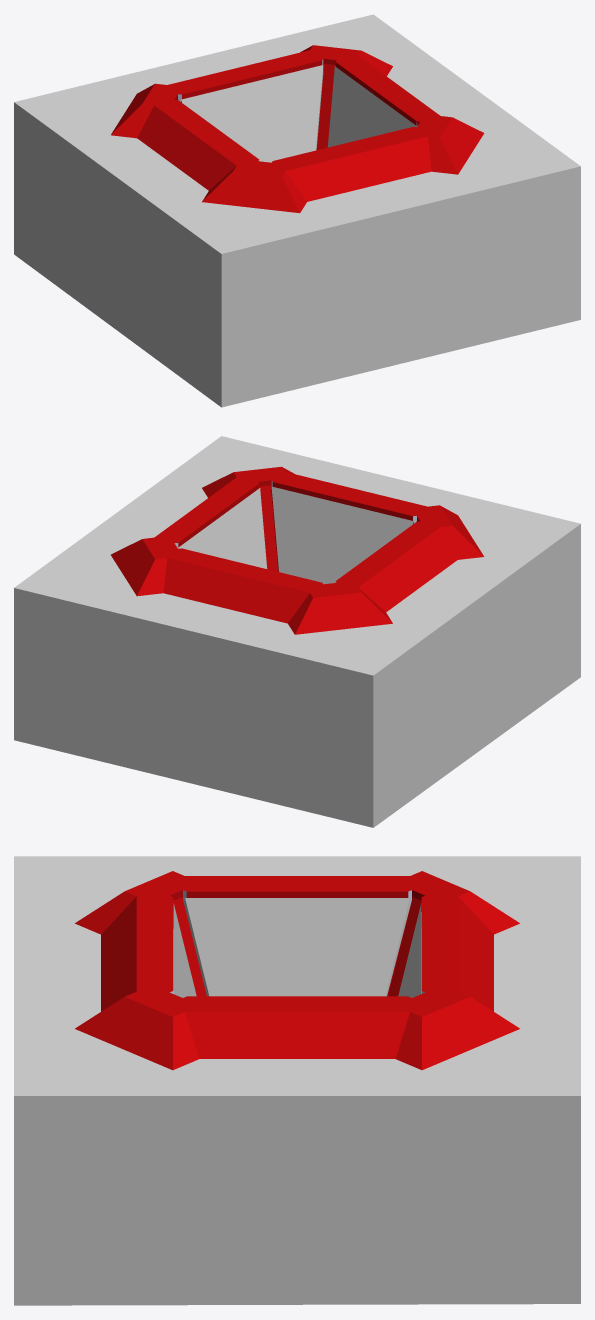
The model's file is keyhole.glb.
3 views of the same model, one above another, from view 1: azimuth 30°, elevation 25°; view 2: azimuth 150°, elevation 25°; view 3: azimuth 270°, elevation 25° (orthographic). The views are drawn at different scales.
Parts seen in each view (by area): view 1: Body1; view 2: Body1; view 3: Body1.
Part boxes in pixels (bbox=[...]): Body1: bbox=[14, 14, 580, 407]; Body1: bbox=[14, 436, 580, 827]; Body1: bbox=[14, 856, 580, 1305].
Bounding box in the file's own units: 1.02 × 0.4781 × 1.02.
